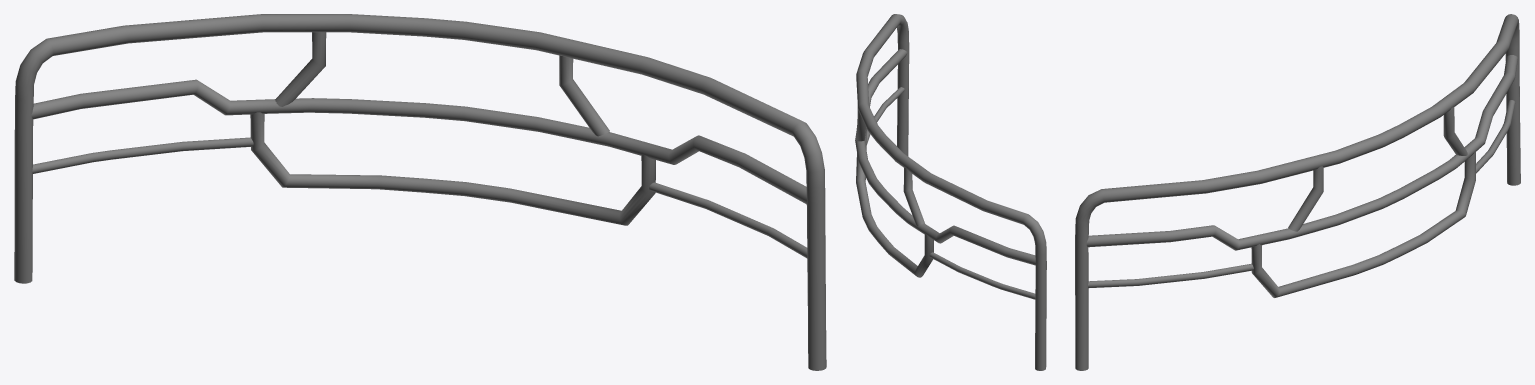
Rendered from q-scifi-mod-prop-rail-round-small.glb.
The picture shows the model from 3 angles, left to right: view 1: azimuth 30°, elevation 25°; view 2: azimuth 150°, elevation 25°; view 3: azimuth 270°, elevation 25°; orthographic projection. The views are drawn at different scales.
Visible parts, largest first — view 1: Prop_Rail_Round_Small; view 2: Prop_Rail_Round_Small; view 3: Prop_Rail_Round_Small.
Part boxes in pixels (x1,y1,x2,y2): Prop_Rail_Round_Small: (14,14,826,370); Prop_Rail_Round_Small: (855,14,1046,370); Prop_Rail_Round_Small: (1075,14,1520,370).
Bounding box in the file's own units: 1.99 × 0.8623 × 1.97.
Materials: 1 (1 with a texture image).
